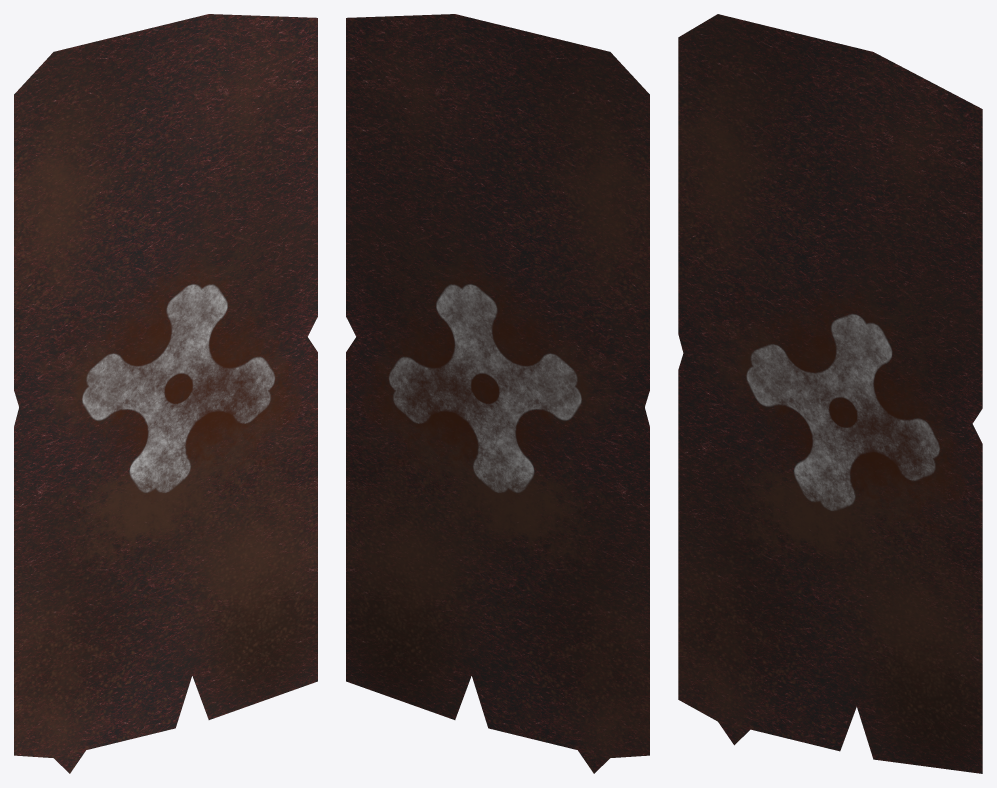
File: Kain Kandang sapi.fbx
3 renders of one model, left to right at view 1: azimuth 30°, elevation 25°; view 2: azimuth 150°, elevation 25°; view 3: azimuth 330°, elevation 25°, orthographic.
Parts seen in each view (by area): view 1: Plane; view 2: Plane; view 3: Plane.
Part boxes in pixels (x1,y1,x2,y2): Plane: [14, 14, 317, 773]; Plane: [346, 14, 649, 773]; Plane: [678, 14, 982, 773].
Size of the model in its own units: 409 by 934 by 0.000143.
Materials: 1 (1 with a texture image).
